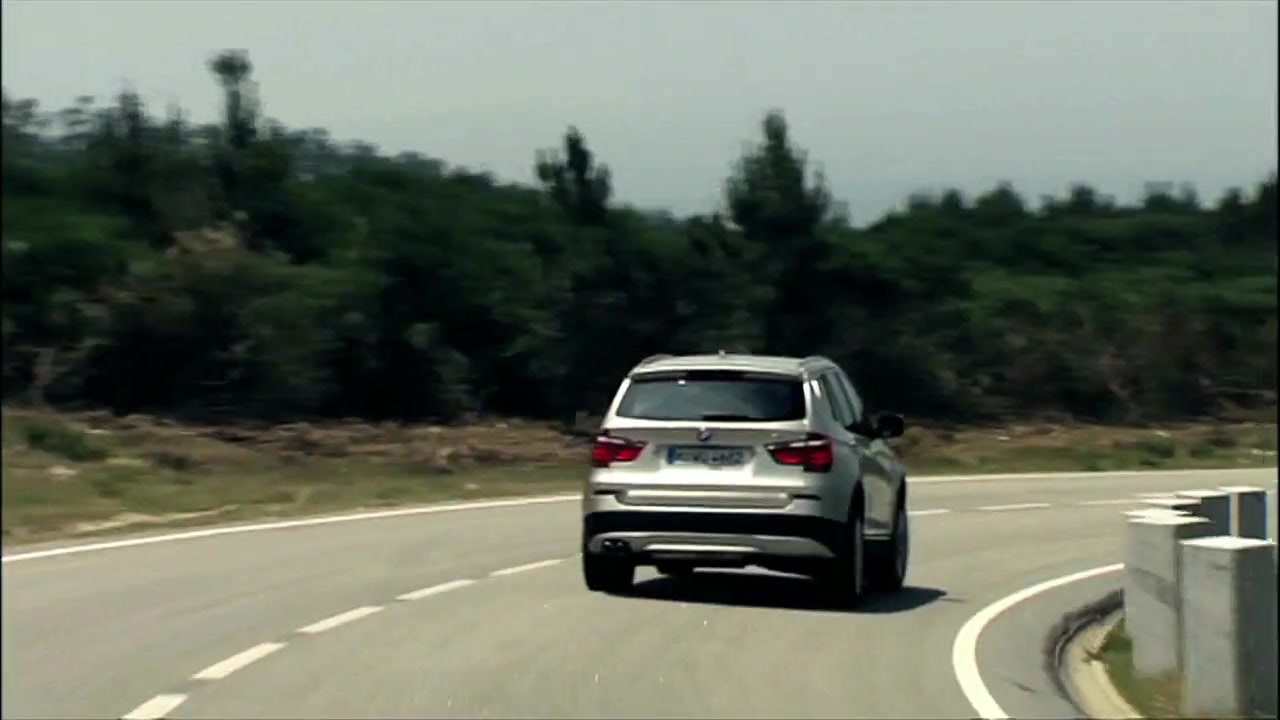car: (580, 353, 922, 605)
